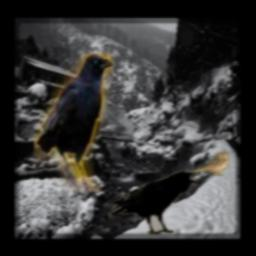Crow: (35, 53, 113, 192), (108, 171, 198, 234)
Sparrow: (187, 152, 229, 176)
